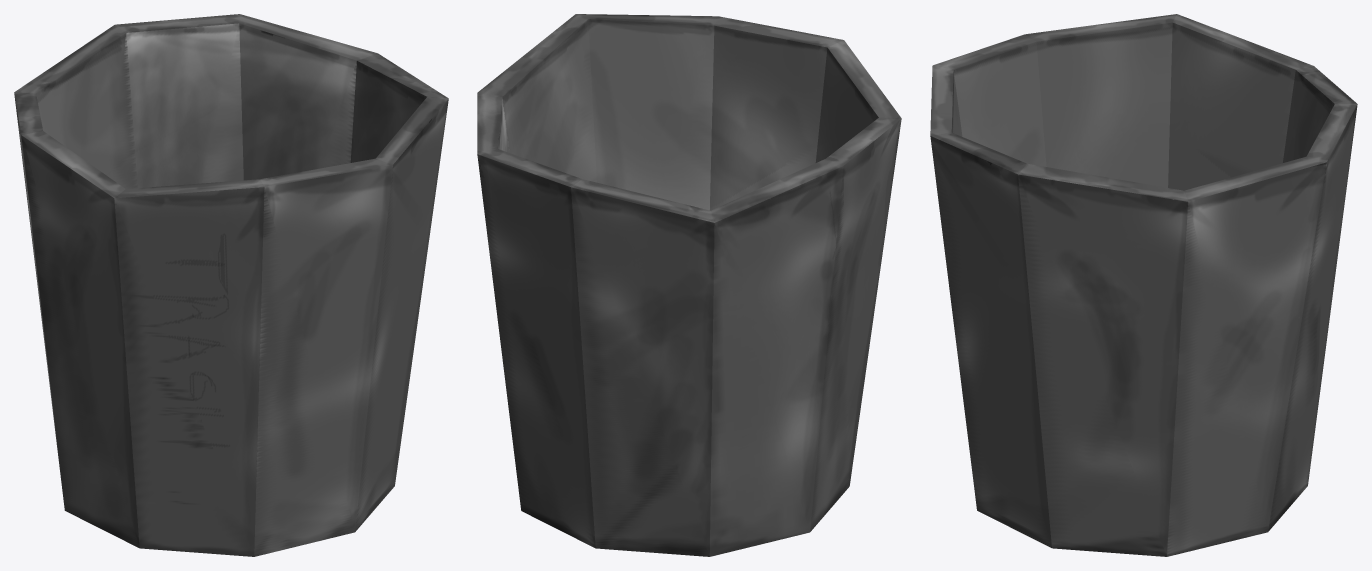
File: Trashcan.fbx
The picture shows the model from 3 angles, left to right: view 1: azimuth 30°, elevation 25°; view 2: azimuth 150°, elevation 25°; view 3: azimuth 270°, elevation 25°; orthographic projection.
Visible parts, largest first — view 1: Cylinder; view 2: Cylinder; view 3: Cylinder.
Part boxes in pixels (bbox=[...]): Cylinder: bbox=[14, 14, 448, 556]; Cylinder: bbox=[477, 14, 901, 556]; Cylinder: bbox=[930, 14, 1357, 556].
Bounding box in the file's own units: 244 × 253 × 248.
